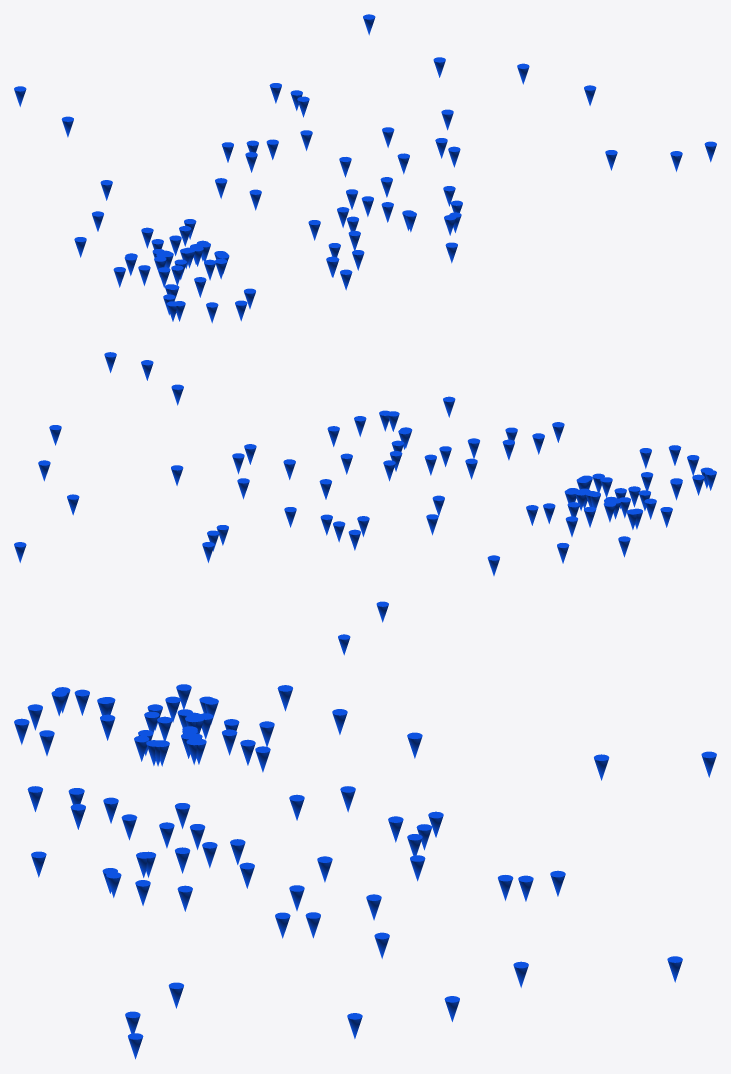
File: National_Monuments.fbx
3 renders of one model, top to bottom at view 1: azimuth 30°, elevation 25°; view 2: azimuth 150°, elevation 25°; view 3: azimuth 270°, elevation 25°, orthographic. The views are drawn at different scales.
Size of the model in its own units: 1235 by 1032 by 37.75.
